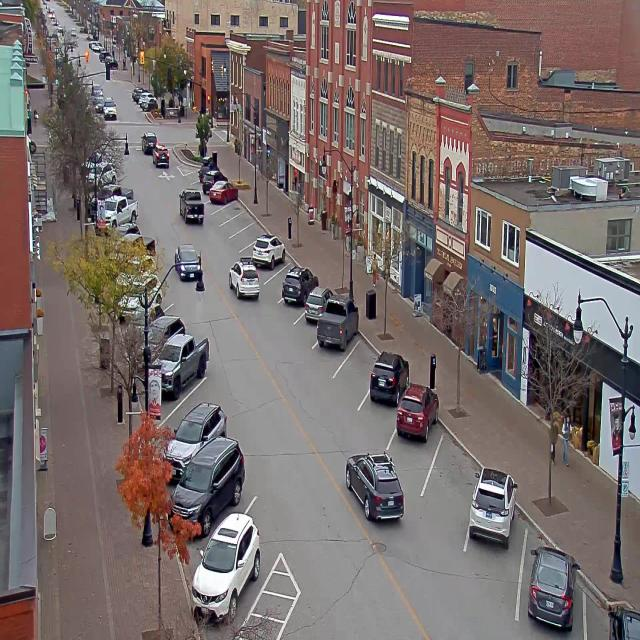available: (428, 425, 481, 514), (342, 332, 379, 390), (176, 370, 223, 409), (266, 255, 300, 289), (238, 219, 263, 246), (228, 208, 251, 231), (221, 195, 241, 218), (185, 168, 198, 185)
occupied: (189, 508, 264, 622), (170, 435, 246, 538), (527, 544, 579, 630), (168, 401, 234, 464), (151, 332, 210, 400), (468, 466, 517, 547), (392, 386, 445, 444), (590, 590, 639, 640), (368, 350, 409, 406), (316, 297, 358, 351), (282, 264, 318, 305), (302, 286, 334, 326), (252, 232, 285, 269), (209, 179, 238, 204), (198, 155, 220, 180), (200, 168, 224, 188)
